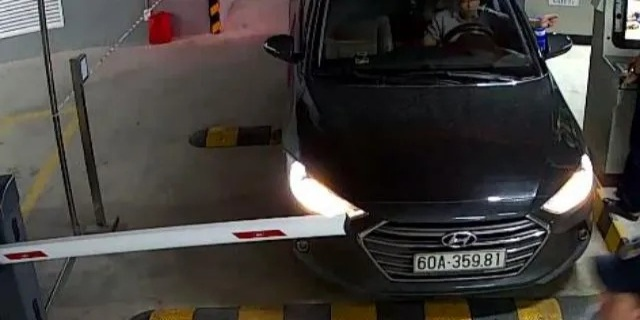bien_so: (415, 251, 504, 272)
